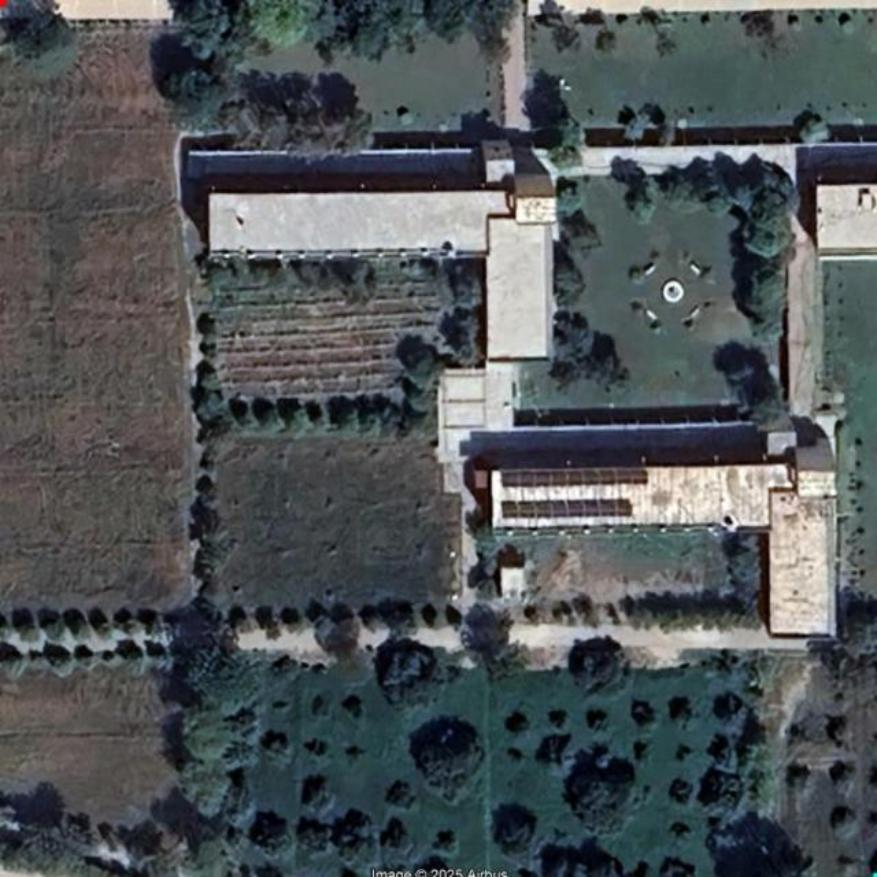Solarpanel: (502, 501, 632, 521), (503, 470, 649, 484)
